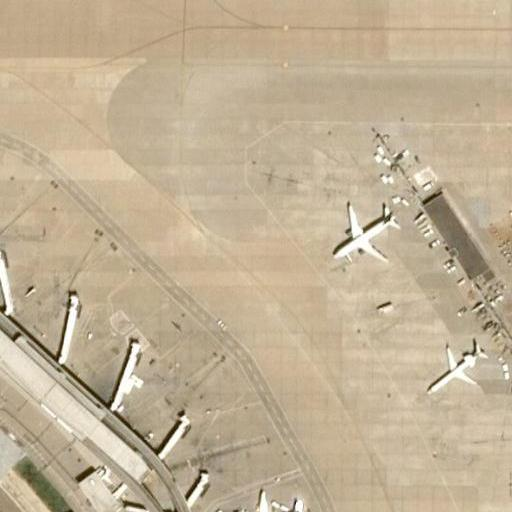Aircraft: (327, 200, 397, 266), (425, 339, 481, 400), (229, 490, 305, 512)
